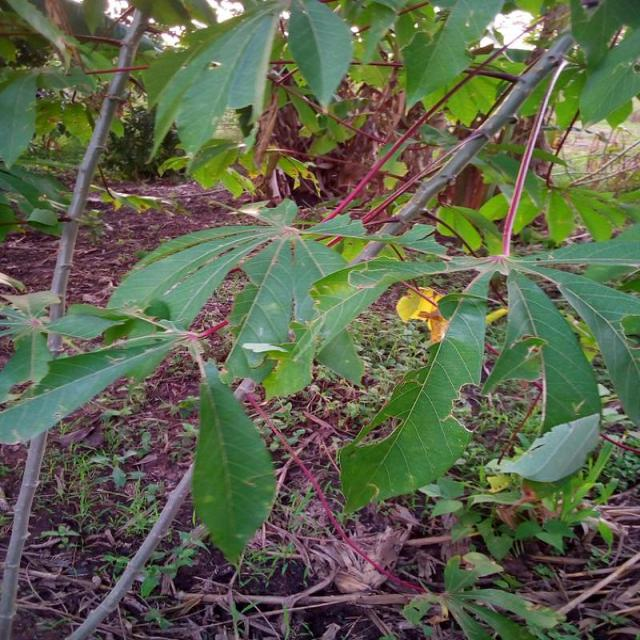cassava leaf: (338, 264, 495, 518), (482, 266, 602, 482), (146, 0, 283, 163), (191, 360, 276, 570), (286, 0, 354, 109)
